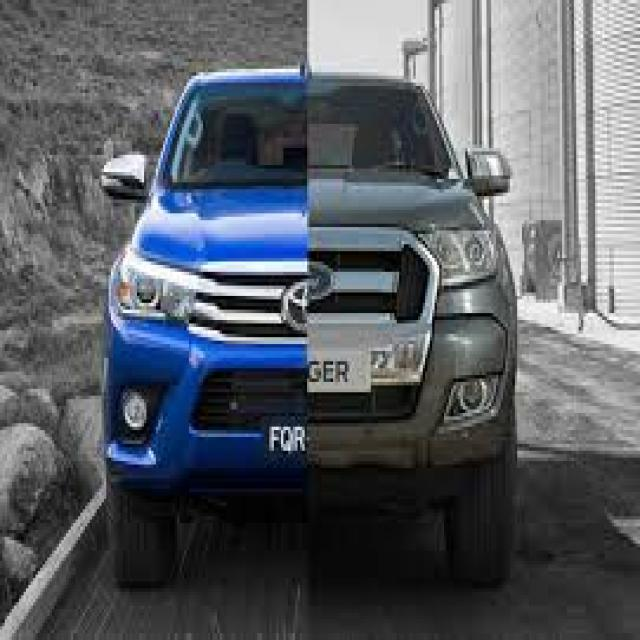Pickup Trucks: (97, 66, 307, 588), (309, 72, 510, 592)
